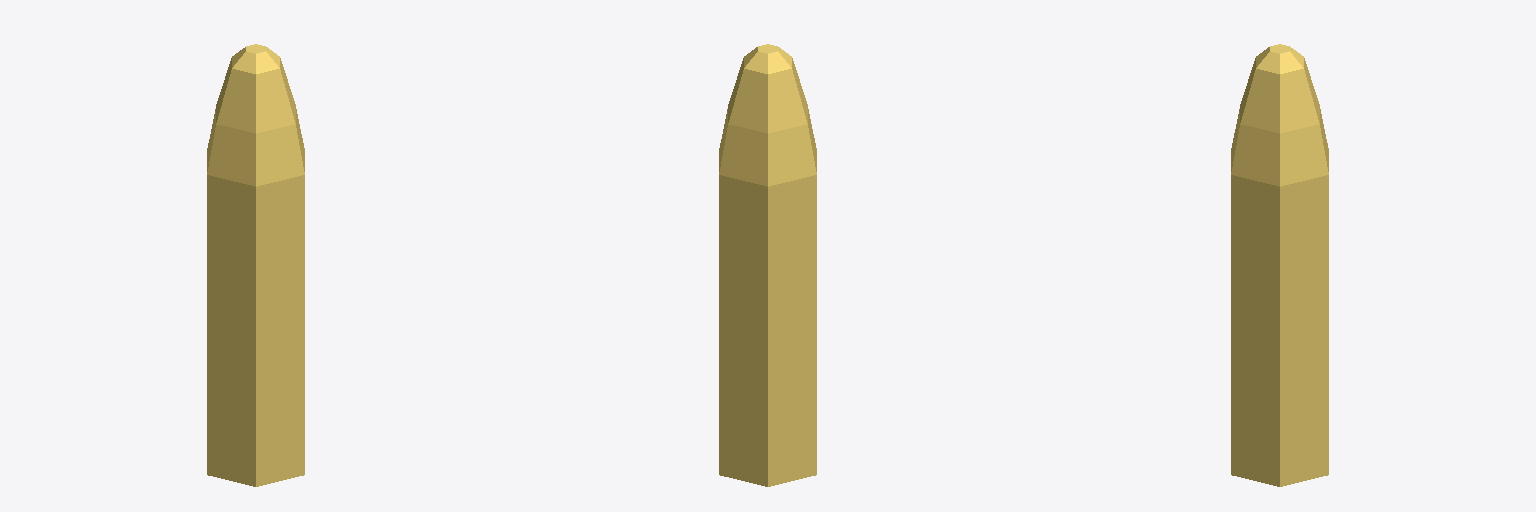
Rendered from ArmorModel.obj.
The picture shows the model from 3 angles: view 1: azimuth 30°, elevation 25°; view 2: azimuth 150°, elevation 25°; view 3: azimuth 270°, elevation 25°; orthographic projection.
Visible parts, largest first — view 1: ArmorModel; view 2: ArmorModel; view 3: ArmorModel.
Part boxes in pixels (left/top/right/bottom): ArmorModel: left=207, top=44, right=304, bottom=486; ArmorModel: left=719, top=44, right=816, bottom=486; ArmorModel: left=1231, top=44, right=1328, bottom=486.
Bounding box in the file's own units: 0.16 × 0.6466 × 0.1386.